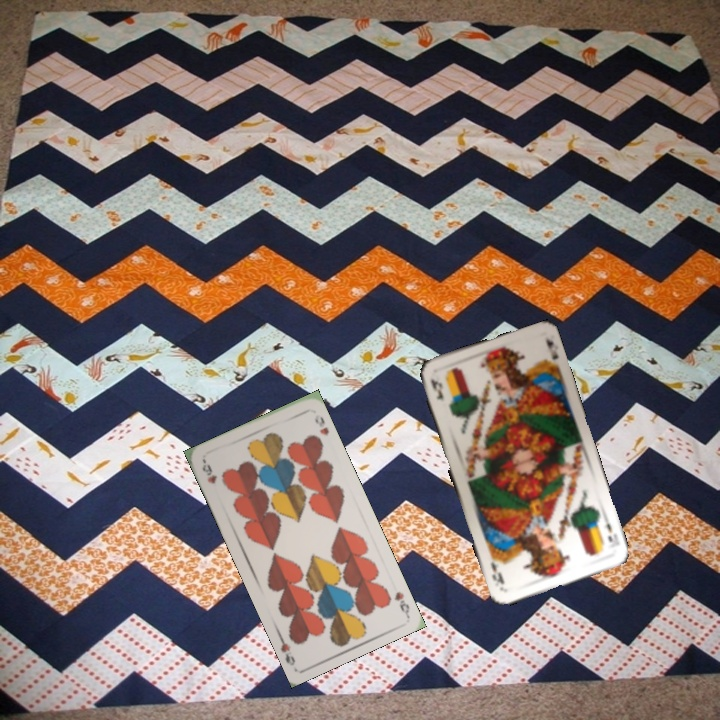EK: (602, 514, 622, 549), (426, 374, 447, 404)
H9: (390, 588, 412, 617), (198, 458, 220, 486)
